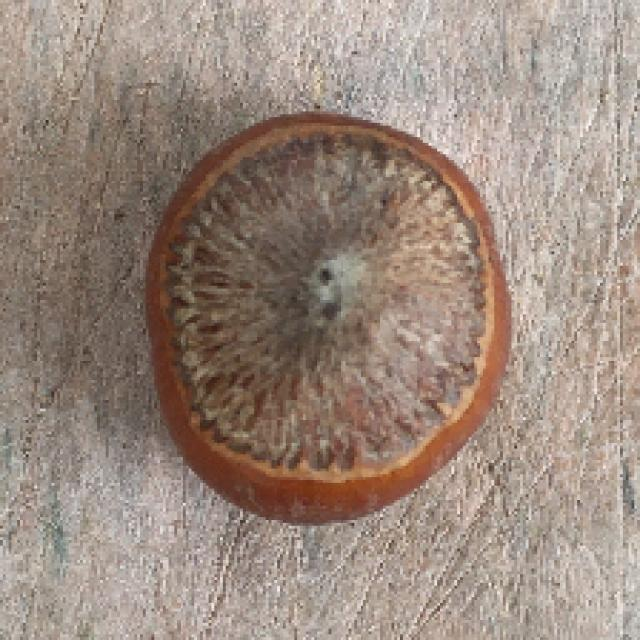qualityHazelnut: (146, 99, 516, 533)
